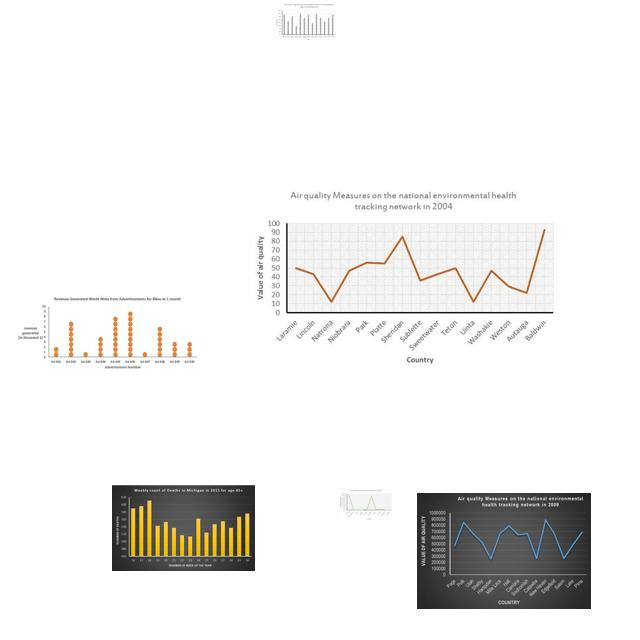Graph: (249, 186, 559, 366), (417, 493, 591, 609), (11, 295, 200, 374), (112, 485, 255, 571), (274, 3, 336, 41), (338, 488, 393, 521)
